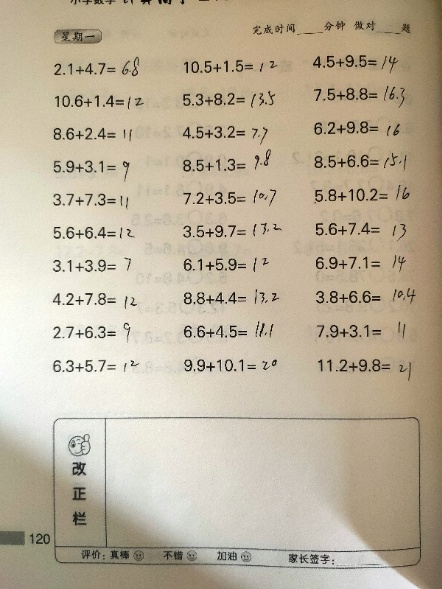equation: (309, 82, 415, 116), (307, 282, 427, 312), (312, 353, 419, 385), (309, 318, 418, 348), (176, 183, 286, 212), (47, 282, 148, 313), (47, 316, 144, 348), (304, 149, 418, 176), (176, 218, 292, 244), (48, 118, 141, 149), (178, 85, 280, 113), (179, 150, 284, 177), (306, 182, 418, 207), (176, 251, 276, 279), (178, 317, 278, 345), (50, 351, 147, 379), (178, 121, 280, 147), (309, 219, 412, 244), (49, 158, 144, 183), (178, 54, 280, 77), (52, 54, 142, 80), (307, 253, 413, 275), (309, 119, 413, 141), (174, 285, 282, 306), (307, 52, 412, 73), (48, 188, 144, 209), (52, 91, 146, 110), (181, 356, 280, 374), (50, 255, 133, 275), (51, 224, 137, 241)
